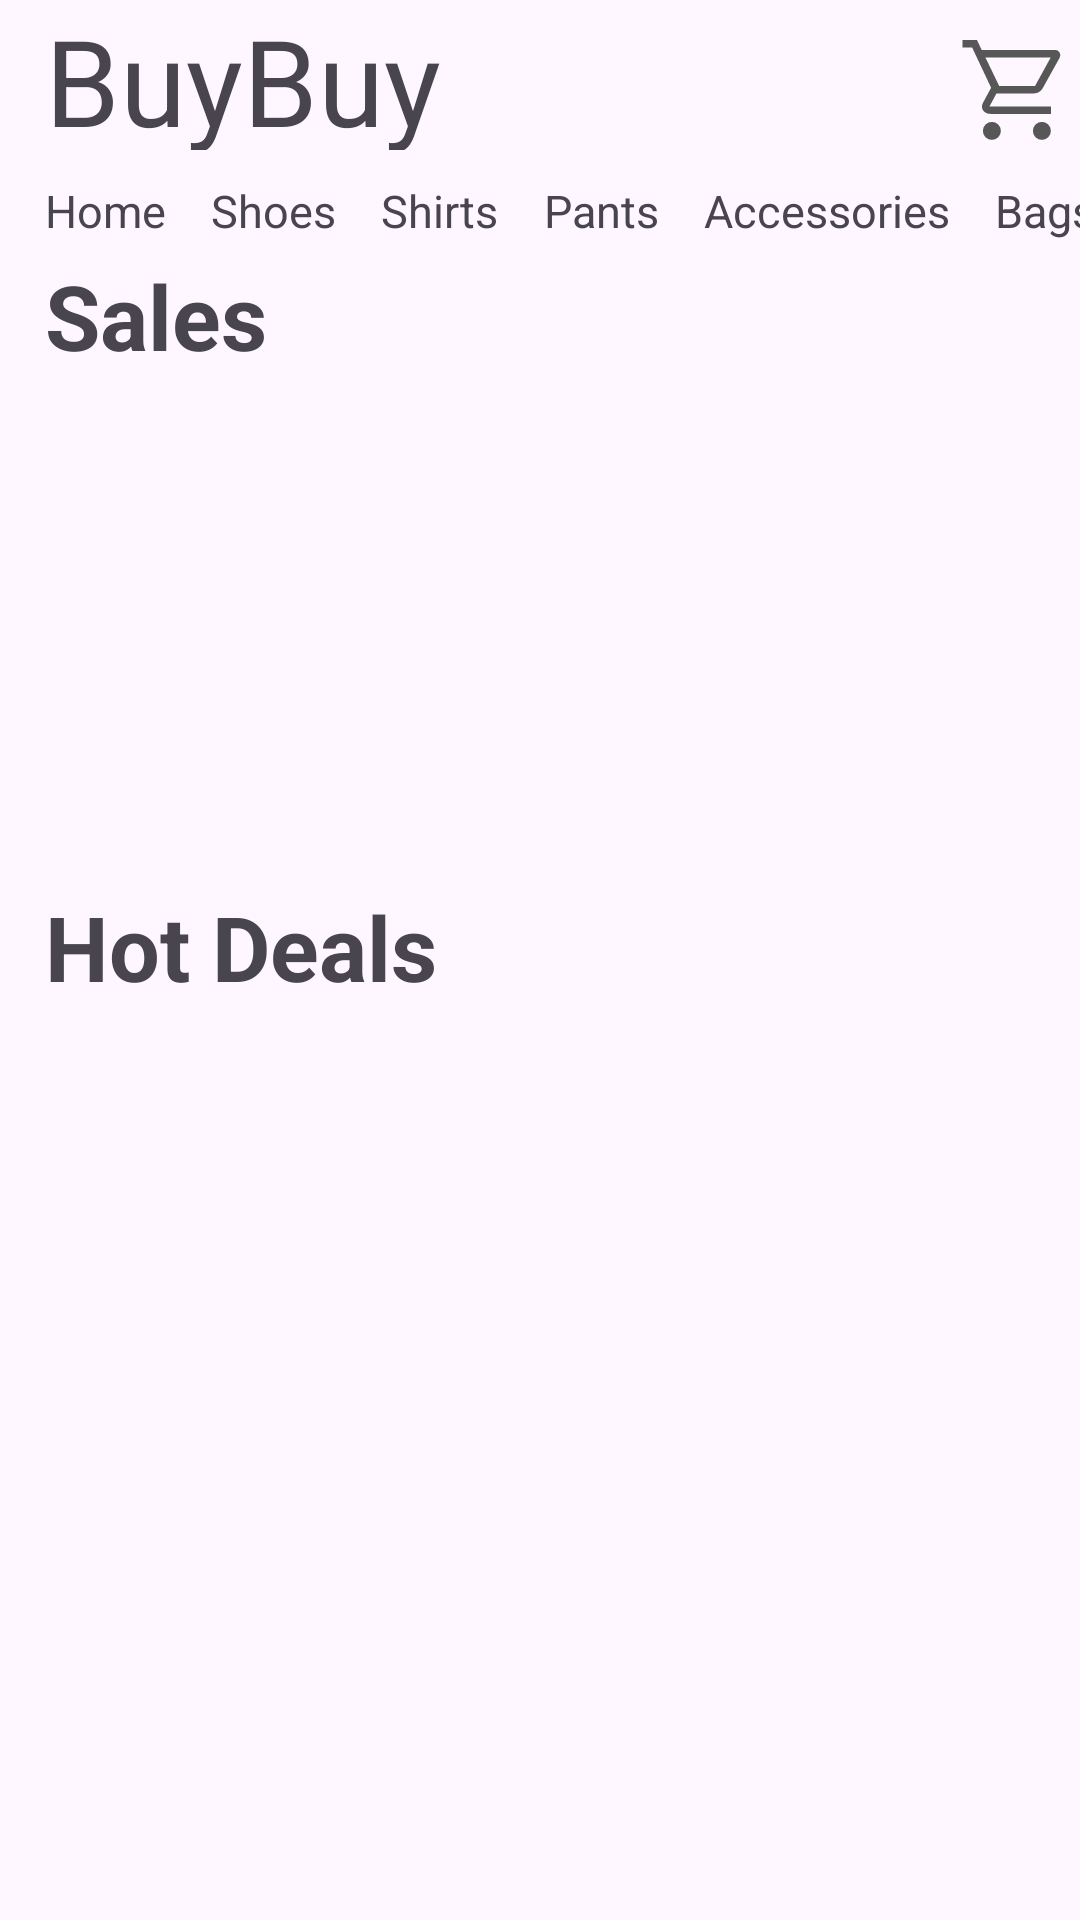

Icon click points for this 1080 x 1920 phone screenshot, format point (x, y):
shopping cart: point (1011, 90)
